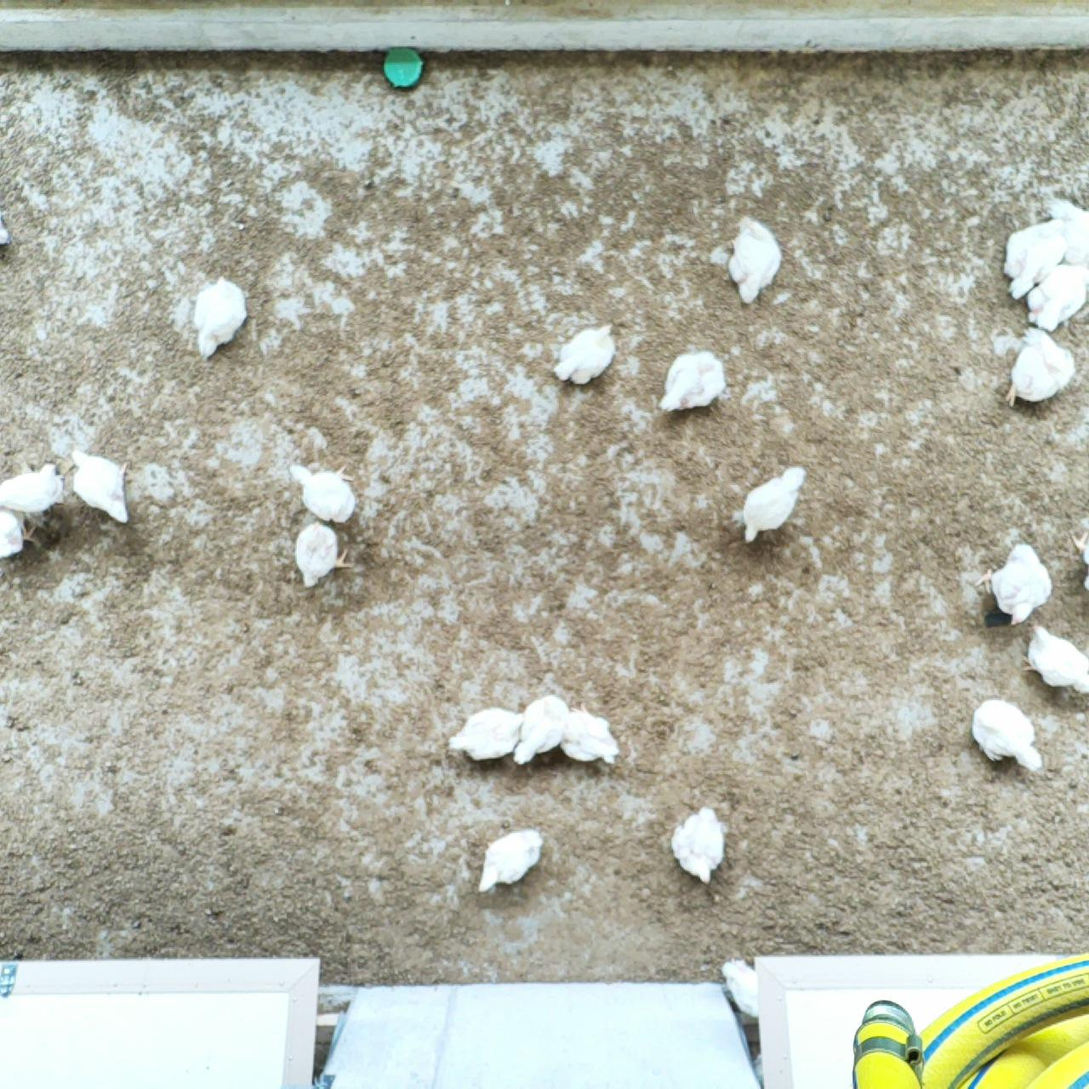chicken: (976, 539, 1054, 628), (1002, 323, 1075, 411), (1003, 217, 1074, 302), (970, 695, 1046, 773), (735, 464, 811, 541), (64, 446, 133, 525), (1019, 258, 1089, 335), (727, 210, 783, 303), (448, 707, 538, 764), (1024, 625, 1089, 702), (667, 804, 730, 883), (659, 345, 728, 415), (192, 274, 249, 358), (289, 460, 360, 526), (291, 517, 355, 590), (551, 700, 620, 765), (553, 318, 618, 386), (480, 826, 545, 894), (511, 695, 570, 768), (716, 955, 778, 1022), (0, 455, 66, 515), (1040, 198, 1089, 268), (0, 502, 41, 562), (1067, 524, 1089, 593)
